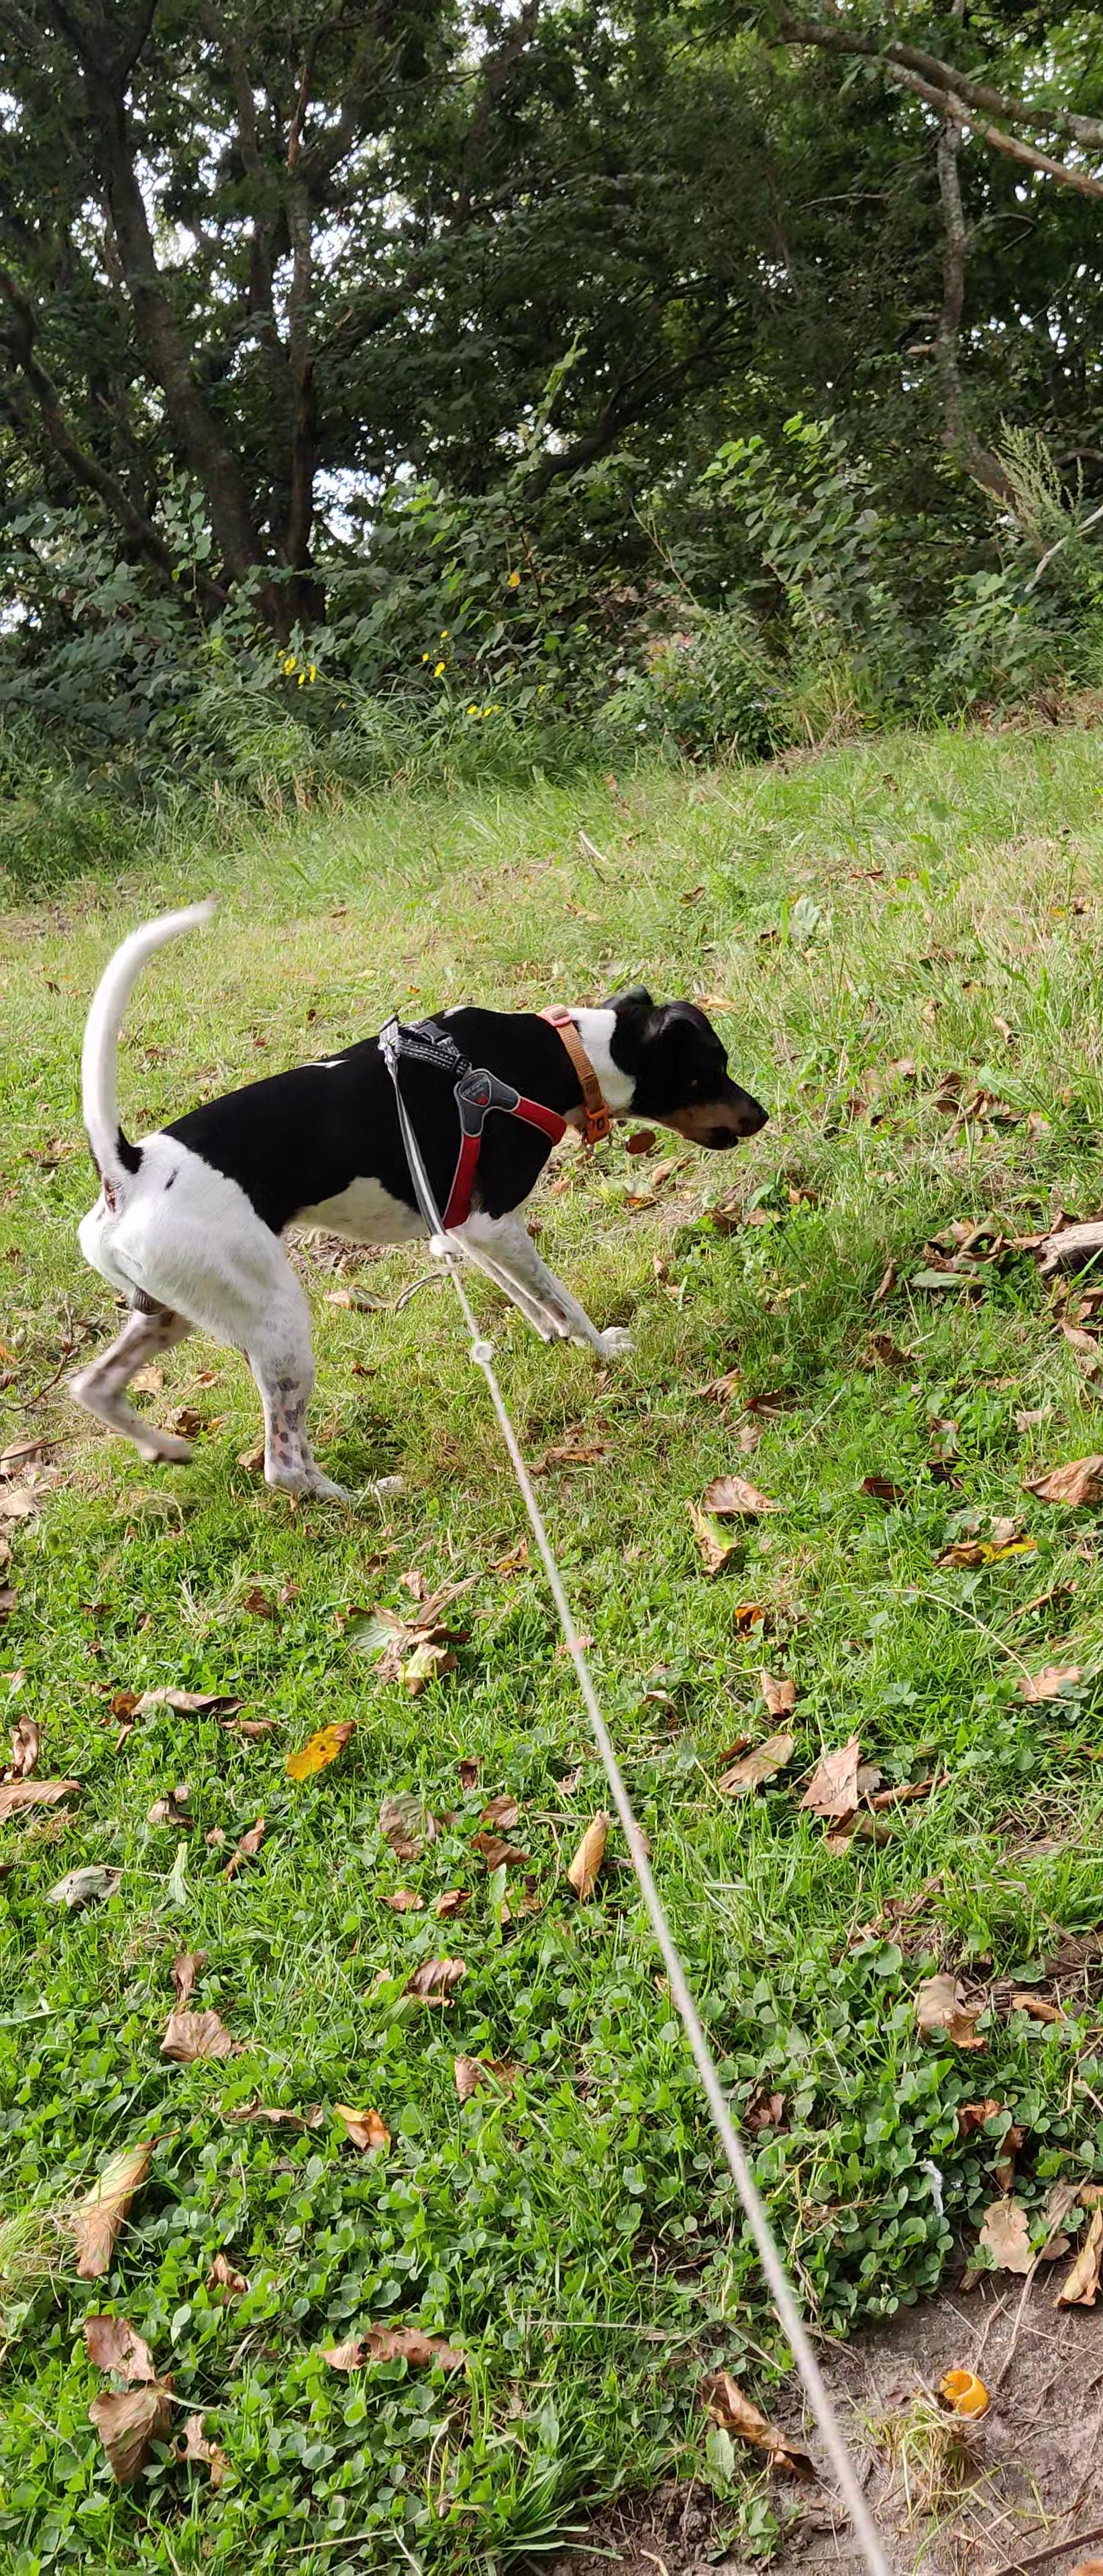Dog: (48, 846, 789, 1536)
